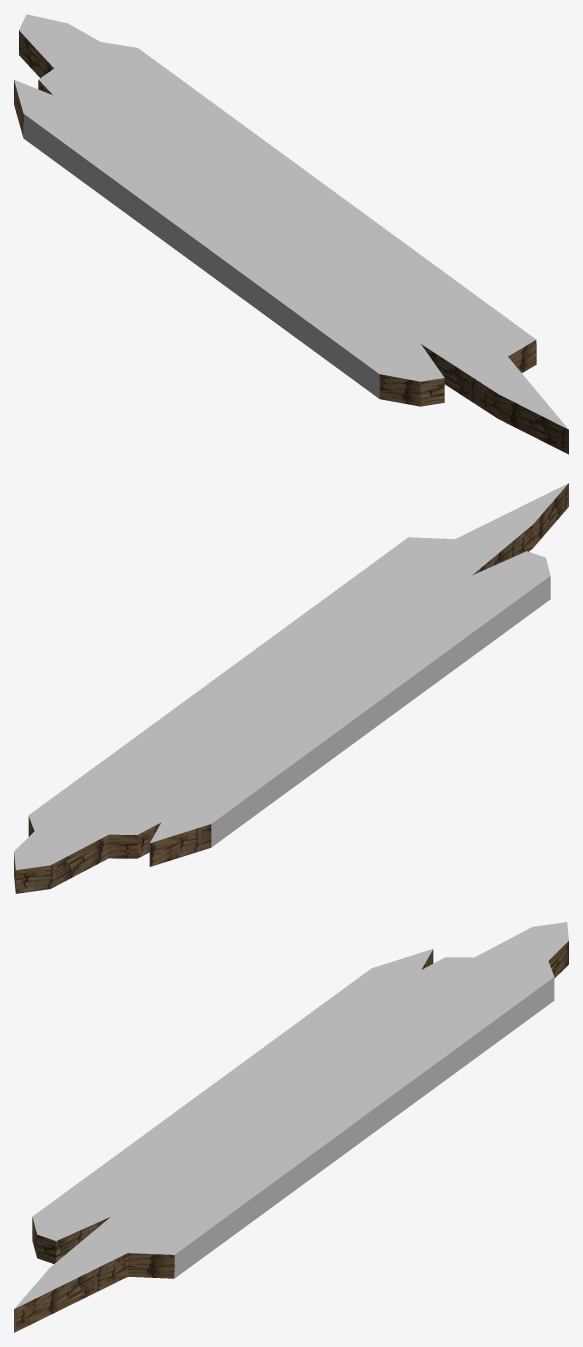
The model's file is lower_city_wood_plank_06.fbx.
3 renders of one model, top to bottom at view 1: azimuth 30°, elevation 25°; view 2: azimuth 150°, elevation 25°; view 3: azimuth 330°, elevation 25°, orthographic. The views are drawn at different scales.
Parts seen in each view (by area): view 1: lower_city_wood_plank_06; view 2: lower_city_wood_plank_06; view 3: lower_city_wood_plank_06.
Part boxes in pixels (left/top/right/bottom): lower_city_wood_plank_06: left=14, top=14, right=568, bottom=454; lower_city_wood_plank_06: left=14, top=483, right=568, bottom=893; lower_city_wood_plank_06: left=14, top=922, right=568, bottom=1332.
Size of the model in its own units: 0.4967 by 0.0772 by 3.15.
